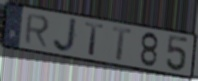5: (166, 34, 190, 73)
8: (140, 31, 159, 68)
J: (51, 17, 79, 54)
R: (23, 12, 51, 49)
T: (112, 26, 133, 63), (84, 22, 105, 58)
